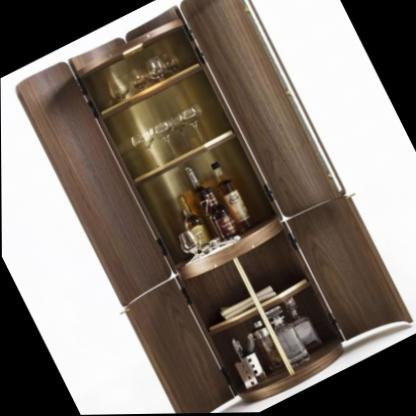Cupboard: (15, 0, 413, 414)
